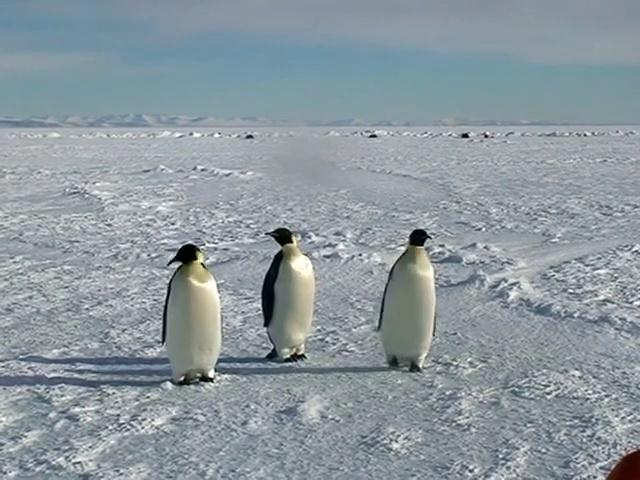animal: (379, 230, 437, 372)
